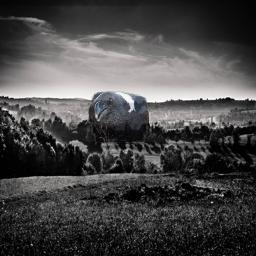Crow: (88, 91, 149, 142)
